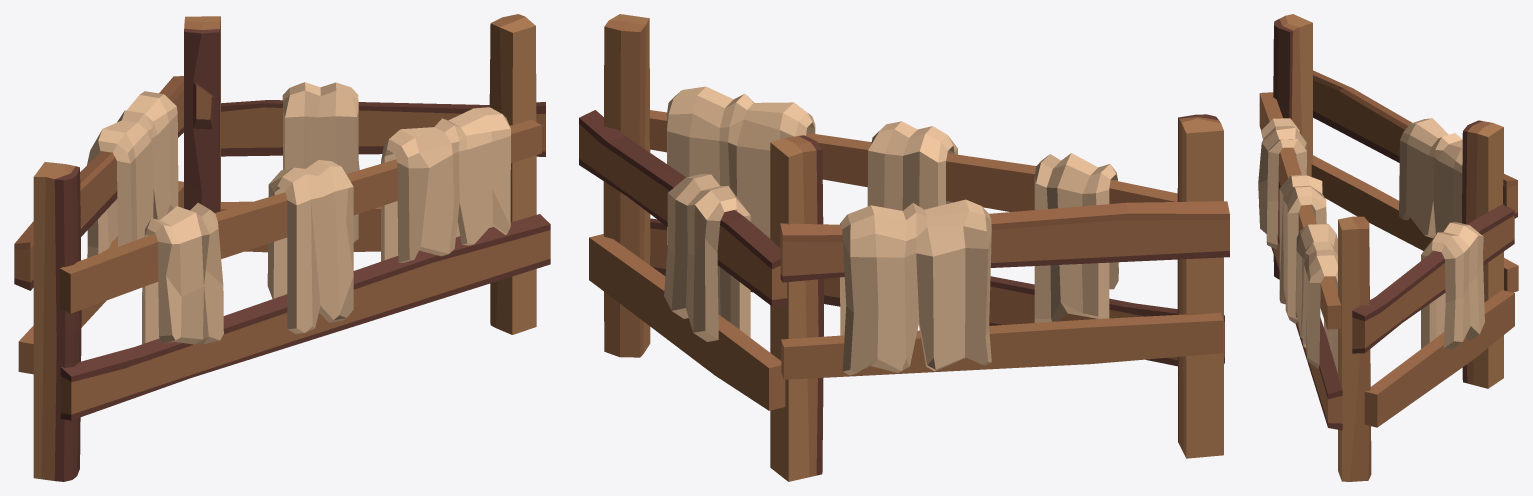
The model's file is drying_2.fbx.
3 views of the same model, side by side, from view 1: azimuth 30°, elevation 25°; view 2: azimuth 150°, elevation 25°; view 3: azimuth 270°, elevation 25° (orthographic). The views are drawn at different scales.
Parts seen in each view (by area): view 1: drying_2; view 2: drying_2; view 3: drying_2.
Boxes of the visible parts, x1,y1,x2,y2 form: drying_2: (14, 14, 550, 481); drying_2: (579, 14, 1229, 481); drying_2: (1258, 14, 1518, 481).
Bounding box in the file's own units: 135 × 68.78 × 64.22.
